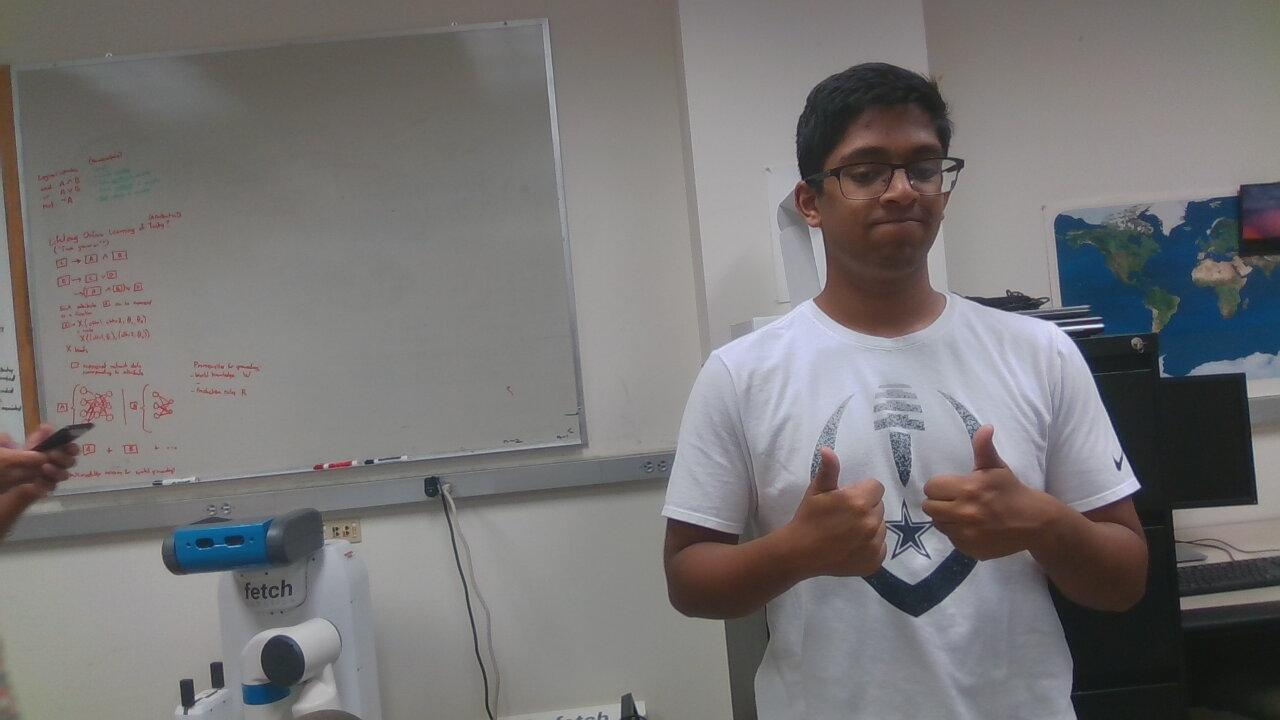hands: (925, 409, 1065, 603), (792, 438, 901, 582)
